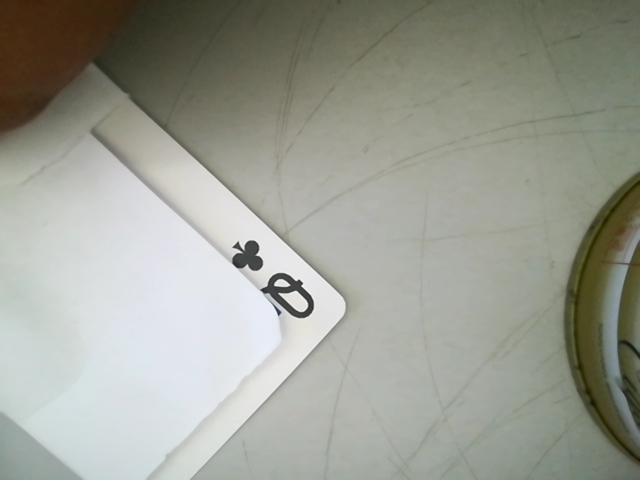mh q: (216, 224, 327, 328)
